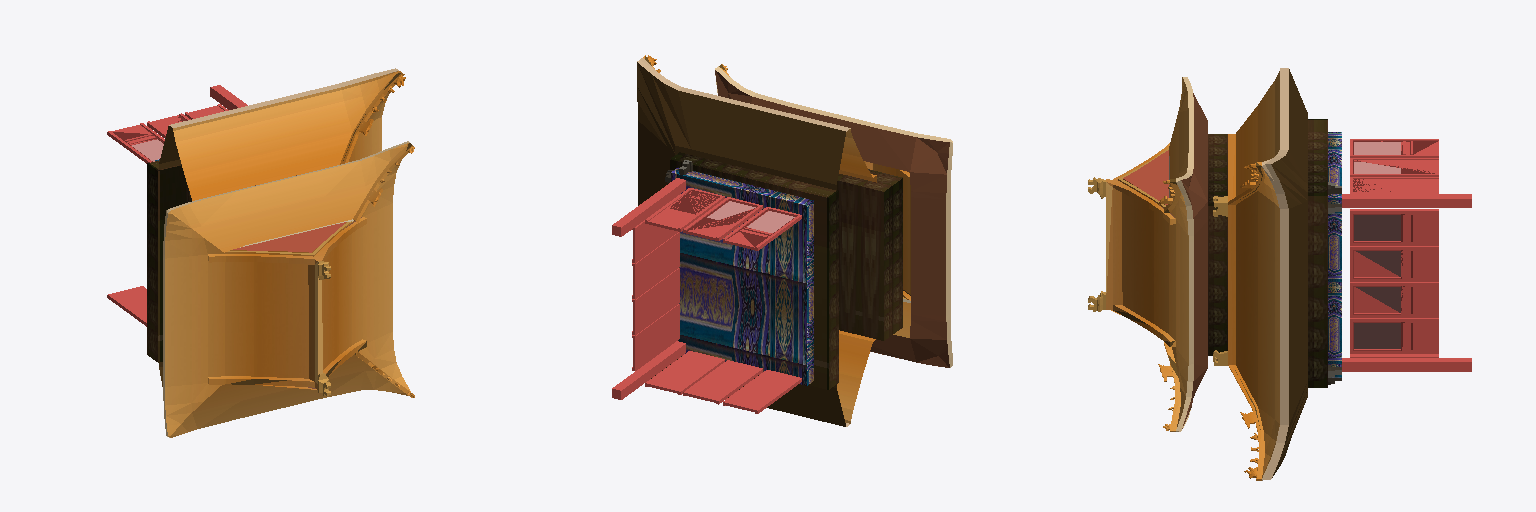
The picture shows the model from 3 angles: view 1: azimuth 30°, elevation 25°; view 2: azimuth 150°, elevation 25°; view 3: azimuth 270°, elevation 25°; orthographic projection.
Size of the model in its own units: 167 by 186 by 203.
Materials: 19 (3 with a texture image).